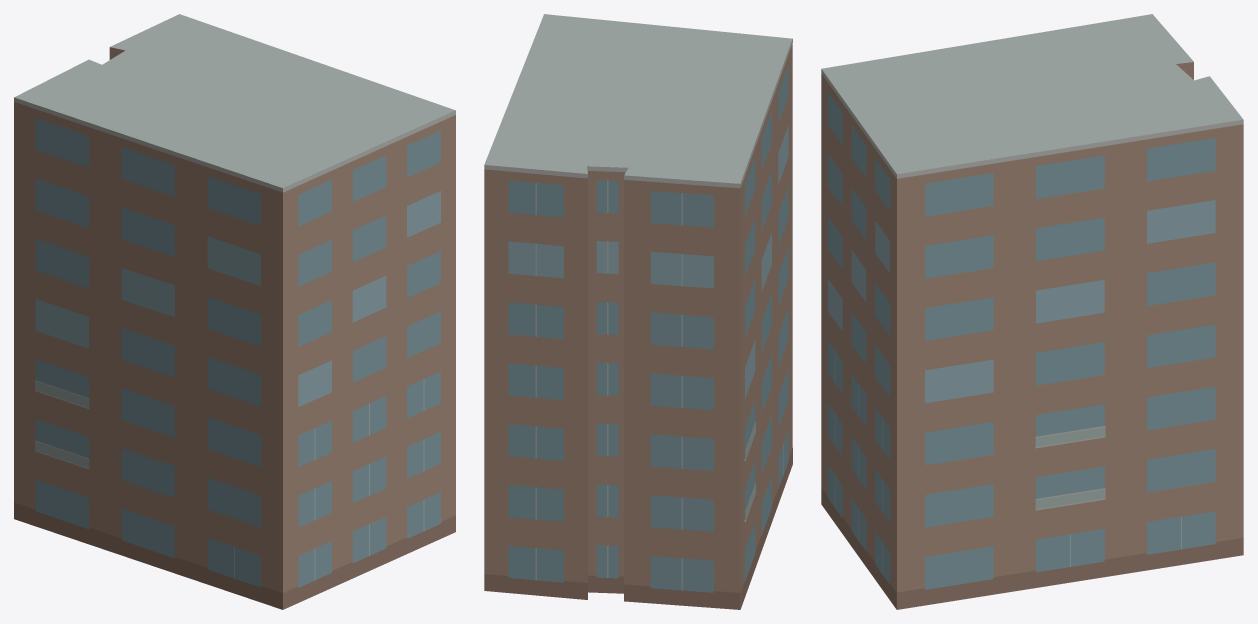
Rendered from survey-upis-32747641.glb.
The picture shows the model from 3 angles, left to right: view 1: azimuth 30°, elevation 25°; view 2: azimuth 150°, elevation 25°; view 3: azimuth 270°, elevation 25°; orthographic projection. The views are drawn at different scales.
Parts seen in each view (by area): view 1: survey-upis-32747641.tmp; view 2: survey-upis-32747641.tmp; view 3: survey-upis-32747641.tmp.
Part boxes in pixels (x1=…): survey-upis-32747641.tmp: x1=14, y1=14, x2=455, y2=609; survey-upis-32747641.tmp: x1=484, y1=14, x2=792, y2=609; survey-upis-32747641.tmp: x1=821, y1=14, x2=1243, y2=609.
Bounding box in the file's own units: 18.32 × 23.2 × 20.39.
